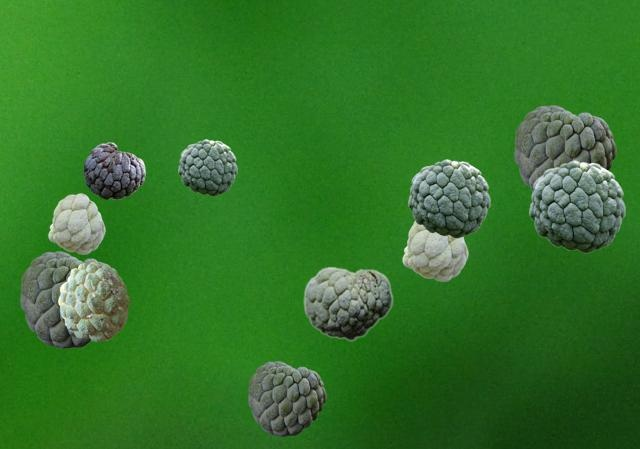atis: (529, 160, 624, 252), (514, 105, 615, 191), (20, 251, 110, 347), (303, 266, 392, 340), (408, 159, 489, 237), (248, 361, 325, 435), (58, 262, 128, 340), (402, 221, 467, 280), (83, 142, 144, 198), (48, 193, 104, 253), (178, 139, 236, 195)
